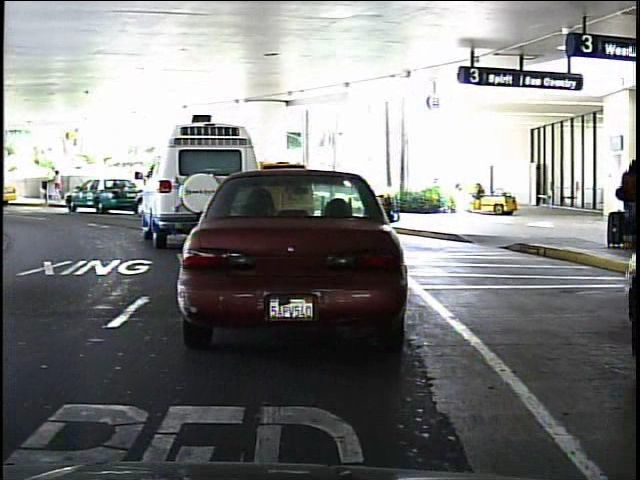person: (49, 162, 63, 202), (53, 166, 67, 203)
